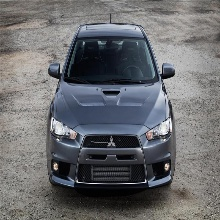no damage: (45, 23, 179, 193)
